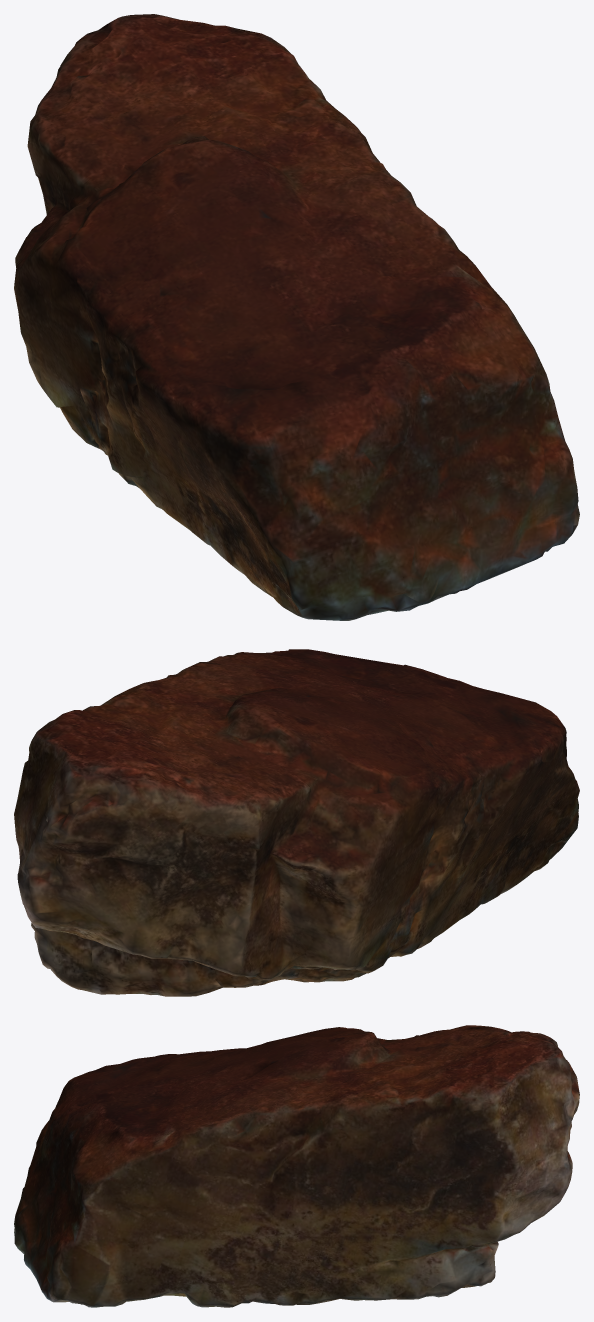
The model's file is rock_07.glb.
3 renders of one model, top to bottom at view 1: azimuth 30°, elevation 25°; view 2: azimuth 150°, elevation 25°; view 3: azimuth 270°, elevation 25°, orthographic. The views are drawn at different scales.
Visible parts, largest first — view 1: rock_07; view 2: rock_07; view 3: rock_07.
Part boxes in pixels (<box>): rock_07: <box>14,14,579,620</box>; rock_07: <box>14,649,579,996</box>; rock_07: <box>14,1025,579,1307</box>.
Bounding box in the file's own units: 0.1689 × 0.1437 × 0.3202.
Materials: 1 (1 with a texture image).
